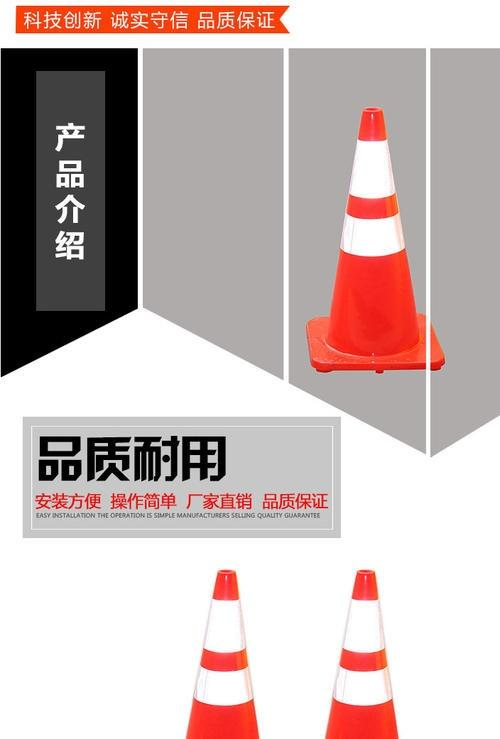cone_barrel: (317, 114, 431, 365), (179, 570, 264, 737), (319, 571, 404, 737)
